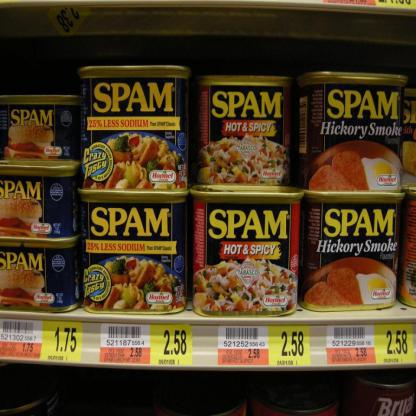spam: (89, 68, 185, 184), (86, 202, 186, 310)
